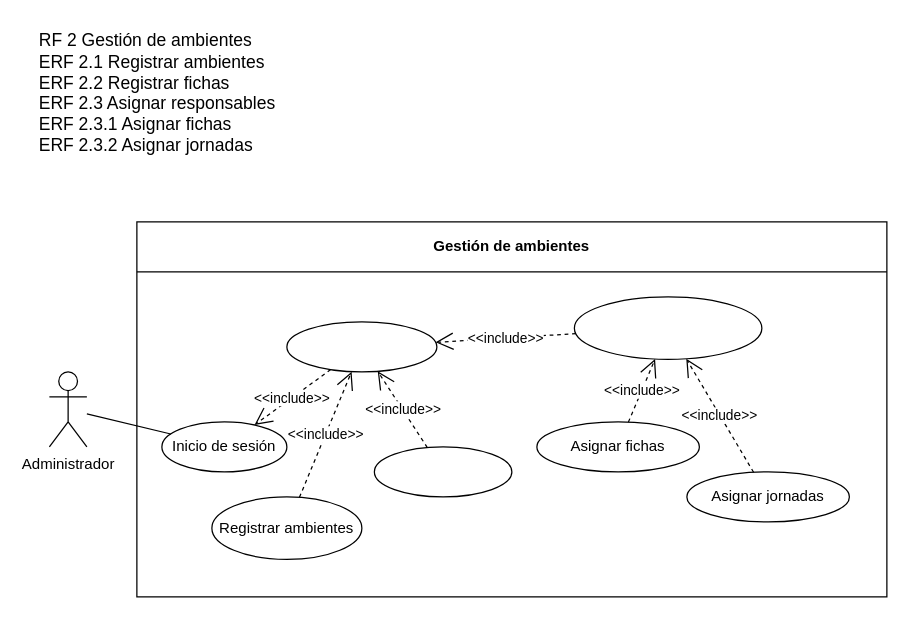
The diagram is 909 pixels wide and 619 high, and some of its shapes have lost their labels. The centre of each missing label's shape, as x and y in pixels:
"Asignar responsables" belongs at pixel 667 327.
"Ingresa al apartado de gestión de ambientes" belongs at pixel 361 346.
"Registrar fichas" belongs at pixel 442 471.
